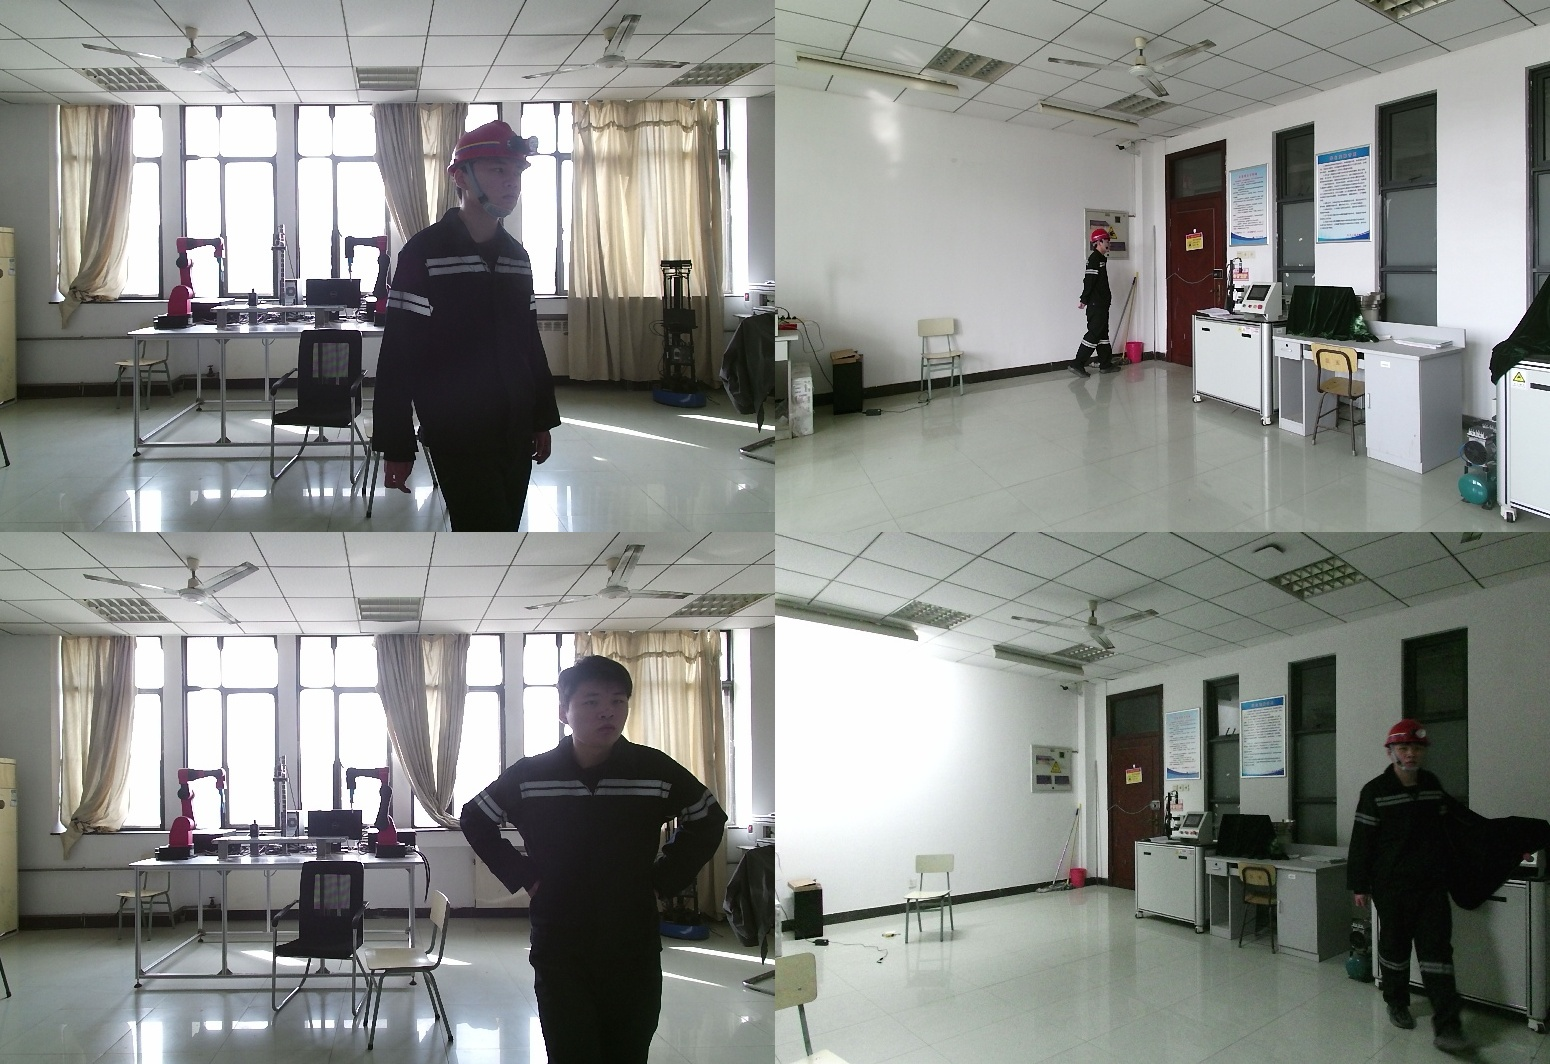person: (472, 660, 737, 1064), (383, 121, 571, 532), (1354, 719, 1485, 1040), (1071, 231, 1116, 382)
